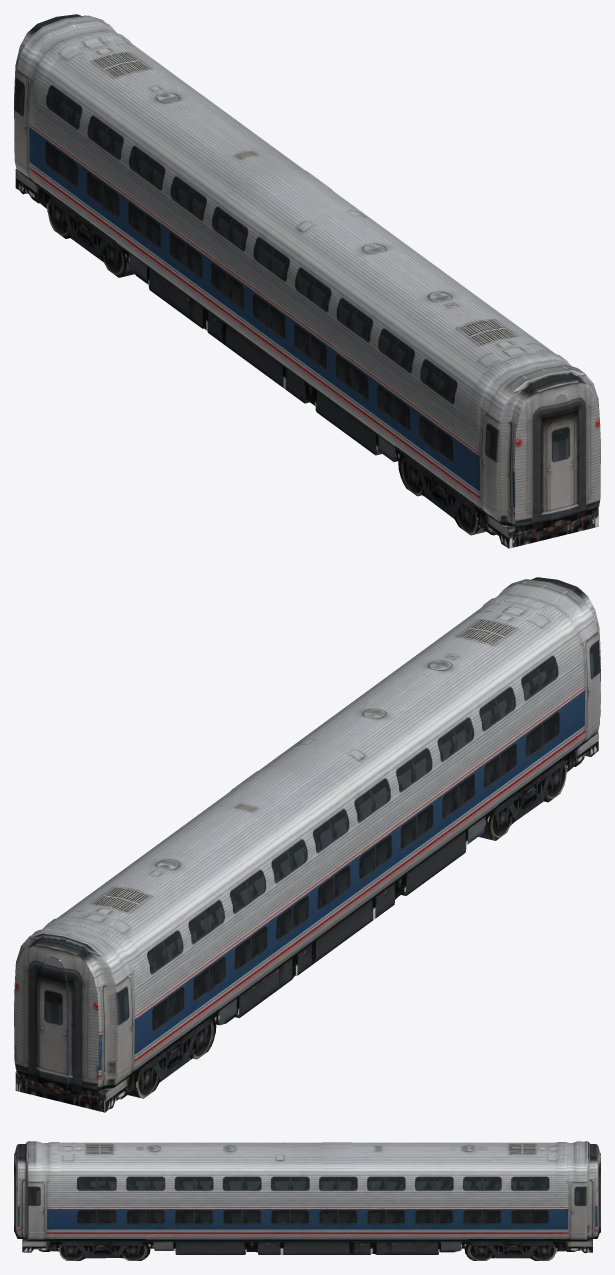
The model's file is tr_viewliner.glb.
3 views of the same model, one above another, from view 1: azimuth 30°, elevation 25°; view 2: azimuth 150°, elevation 25°; view 3: azimuth 270°, elevation 25° (orthographic). The views are drawn at different scales.
Parts seen in each view (by area): view 1: body; view 2: body; view 3: body.
Part boxes in pixels (x1,y1,x2,y2): body: (14, 14, 600, 548); body: (14, 577, 600, 1112); body: (14, 1141, 600, 1260).
Bounding box in the file's own units: 3.1 × 4.89 × 25.49.
1 material, 1 textured.
